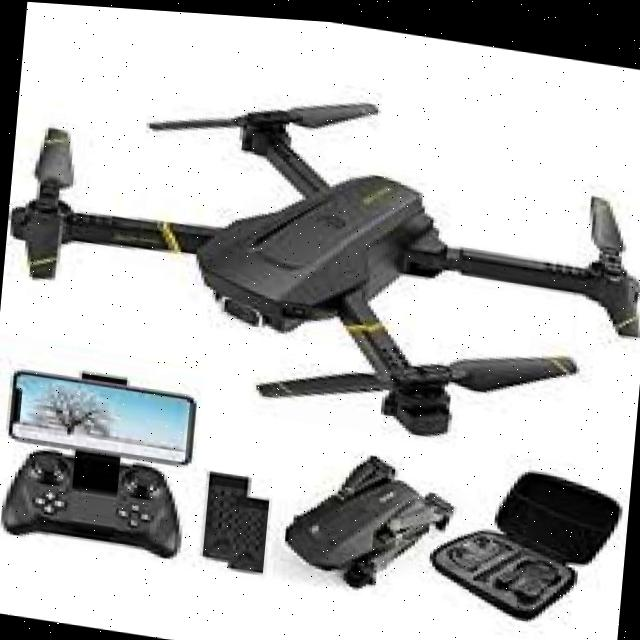drone: (0, 32, 640, 463)
